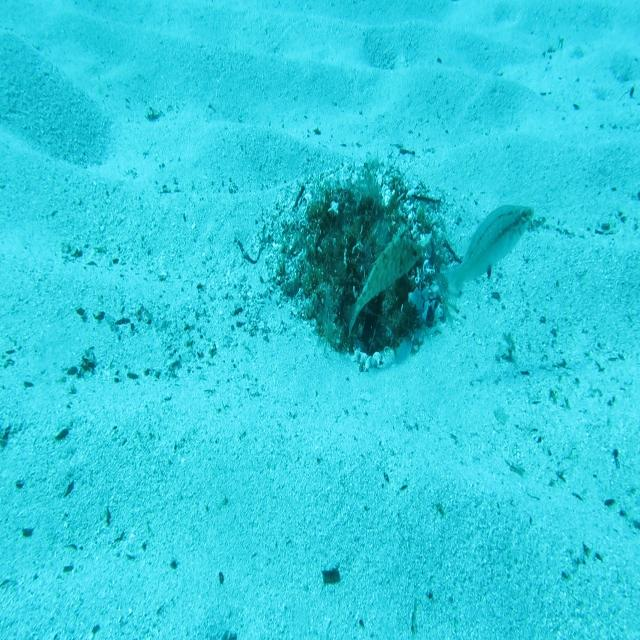ROLL: (345, 225, 425, 342)
core_nest: (333, 202, 383, 248)
female: (433, 200, 535, 334)
nest: (251, 147, 469, 385)
vegetation: (320, 567, 342, 586)
